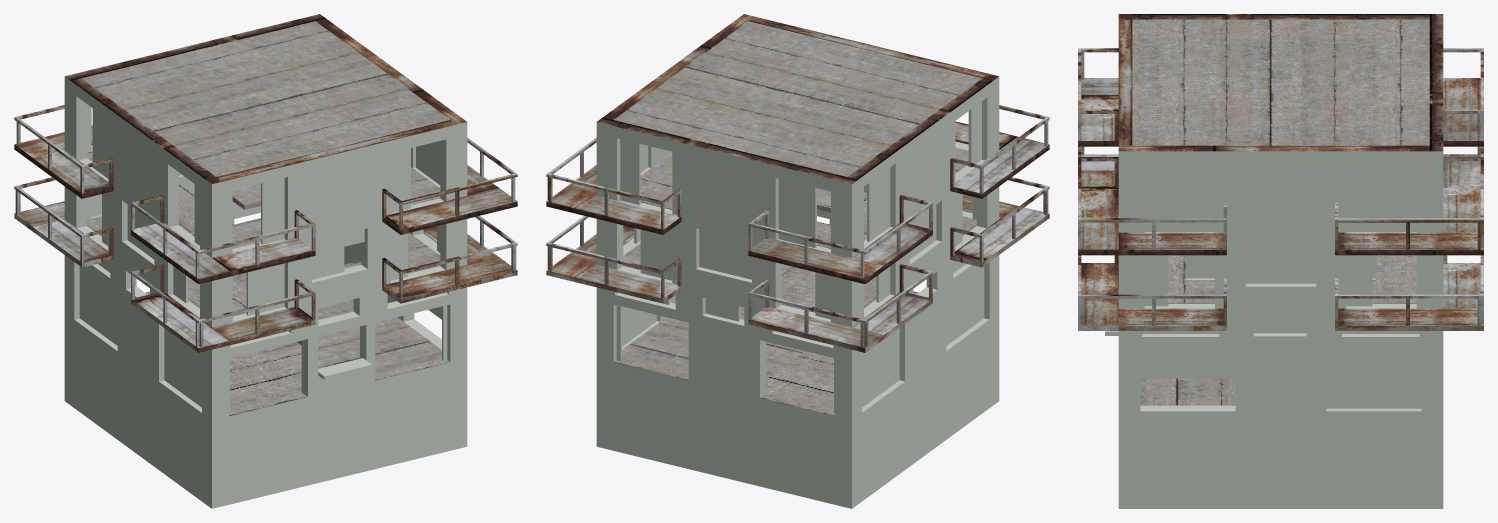
The model's file is BagBuilding3_140.fbx.
3 views of the same model, side by side, from view 1: azimuth 30°, elevation 25°; view 2: azimuth 150°, elevation 25°; view 3: azimuth 270°, elevation 25° (orthographic). The views are drawn at different scales.
Parts seen in each view (by area): view 1: main140, balconies140, roof140, floors140; view 2: main140, balconies140, roof140, floors140, floor140; view 3: main140, balconies140, roof140, floors140.
Boxes of the visible parts, left/top/right/bottom form: main140: left=64, top=77, right=467, bottom=508; balconies140: left=14, top=14, right=517, bottom=352; roof140: left=82, top=21, right=449, bottom=176; floors140: left=87, top=151, right=449, bottom=415; main140: left=596, top=77, right=999, bottom=508; balconies140: left=546, top=14, right=1049, bottom=352; roof140: left=614, top=21, right=981, bottom=176; floors140: left=614, top=147, right=976, bottom=415; floor140: left=766, top=342, right=804, bottom=378; main140: left=1105, top=151, right=1443, bottom=508; balconies140: left=1078, top=14, right=1483, bottom=330; roof140: left=1132, top=19, right=1429, bottom=145; floors140: left=1140, top=255, right=1416, bottom=405.
Bounding box in the file's own units: 20.38 × 19.81 × 20.38.
